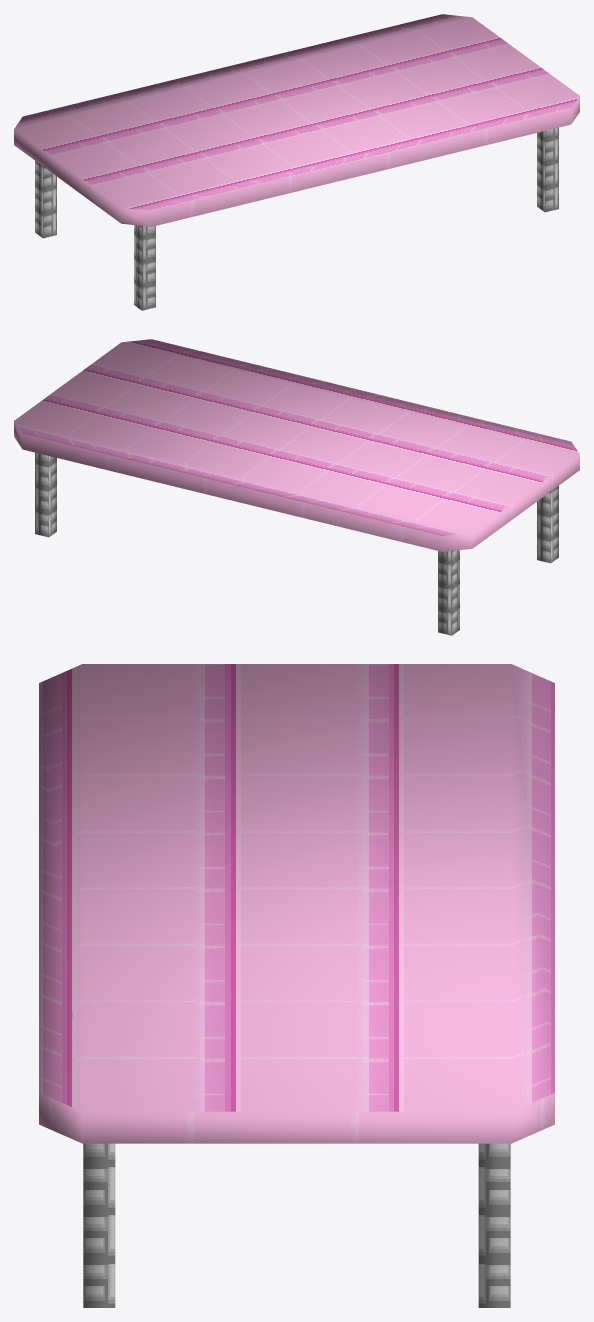
The model's file is 3230IMSD01_16.gltf.
3 renders of one model, top to bottom at view 1: azimuth 30°, elevation 25°; view 2: azimuth 150°, elevation 25°; view 3: azimuth 270°, elevation 25°, orthographic. The views are drawn at different scales.
Visible parts, largest first — view 1: 3230IMSD01_16; view 2: 3230IMSD01_16; view 3: 3230IMSD01_16.
Boxes of the visible parts, <box> form: 3230IMSD01_16: <box>14,14,579,310</box>; 3230IMSD01_16: <box>14,339,579,635</box>; 3230IMSD01_16: <box>39,664,554,1307</box>.
Size of the model in its own units: 1.95 by 0.4399 by 0.9502.
2 materials, 2 textured.
